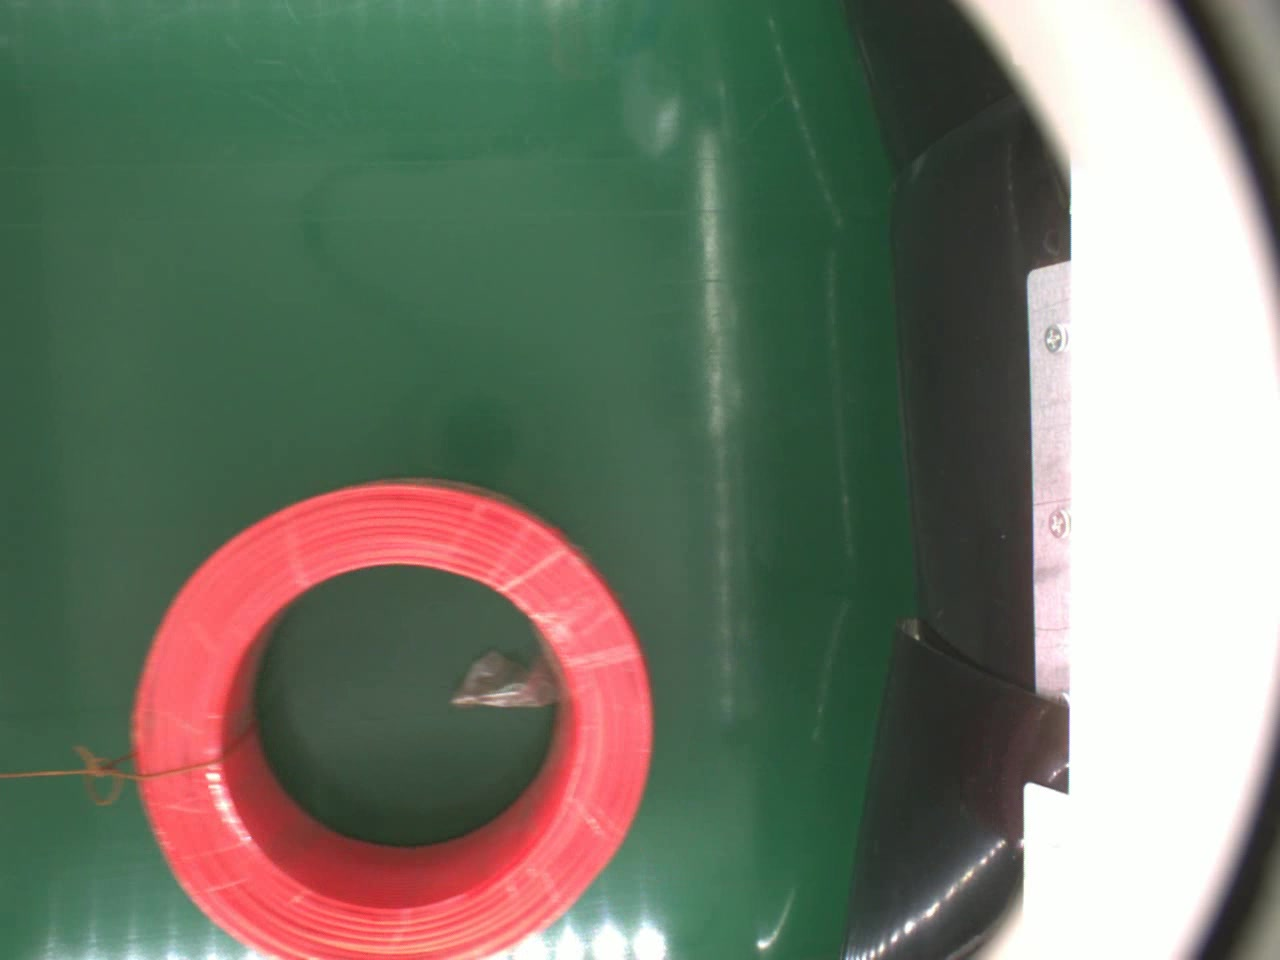red: (129, 471, 653, 960)
